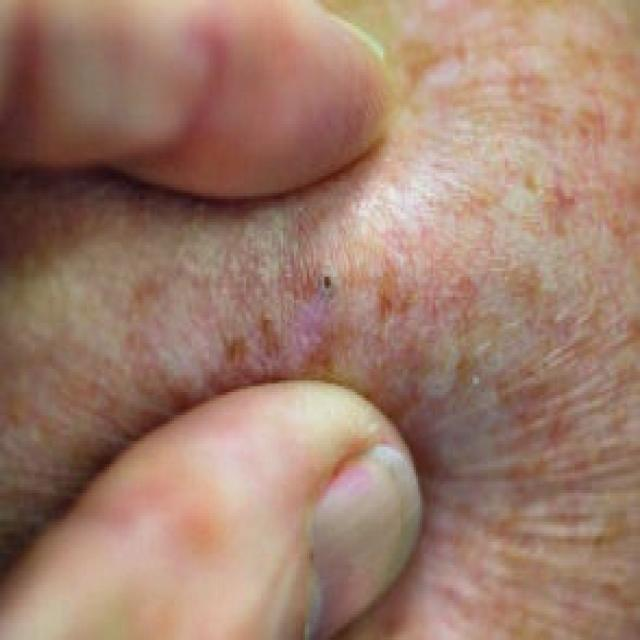Seborrheic-Keratoses-and-other-Benign-Tumors: (80, 141, 589, 407)
